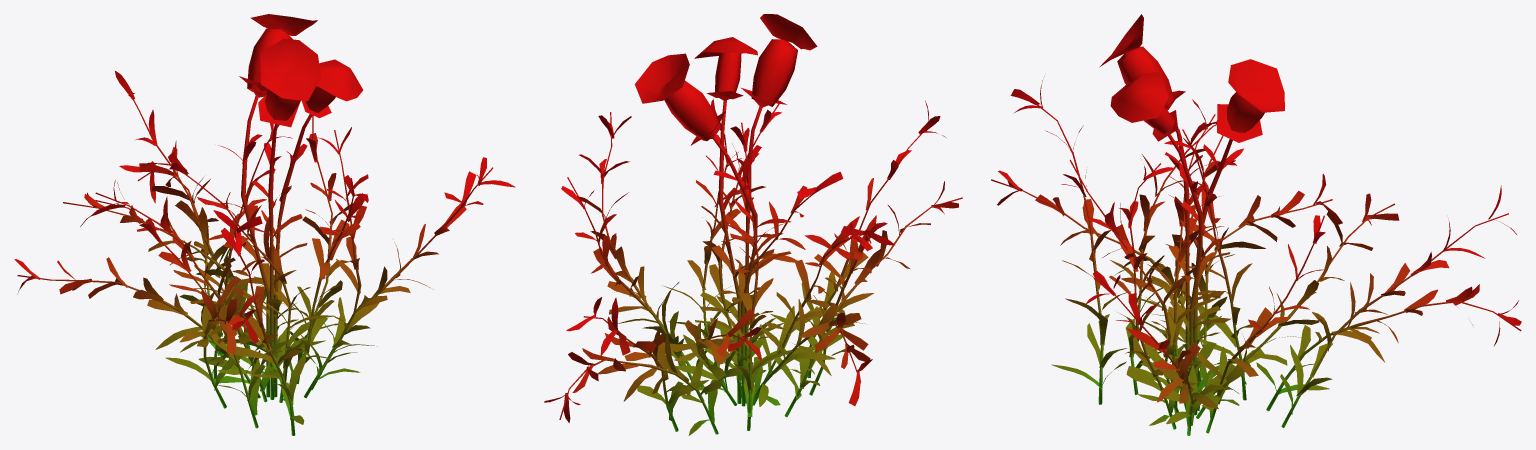
File: Var5_LOD1.fbx
3 renders of one model, left to right at view 1: azimuth 30°, elevation 25°; view 2: azimuth 150°, elevation 25°; view 3: azimuth 270°, elevation 25°, orthographic. The views are drawn at different scales.
Visible parts, largest first — view 1: _bke7_Var5_LOD1; view 2: _bke7_Var5_LOD1; view 3: _bke7_Var5_LOD1.
Boxes of the visible parts, bbox=[...] form: _bke7_Var5_LOD1: bbox=[14, 14, 515, 435]; _bke7_Var5_LOD1: bbox=[544, 14, 962, 435]; _bke7_Var5_LOD1: bbox=[991, 14, 1521, 435].
Bounding box in the file's own units: 23.49 × 22.01 × 26.98.
